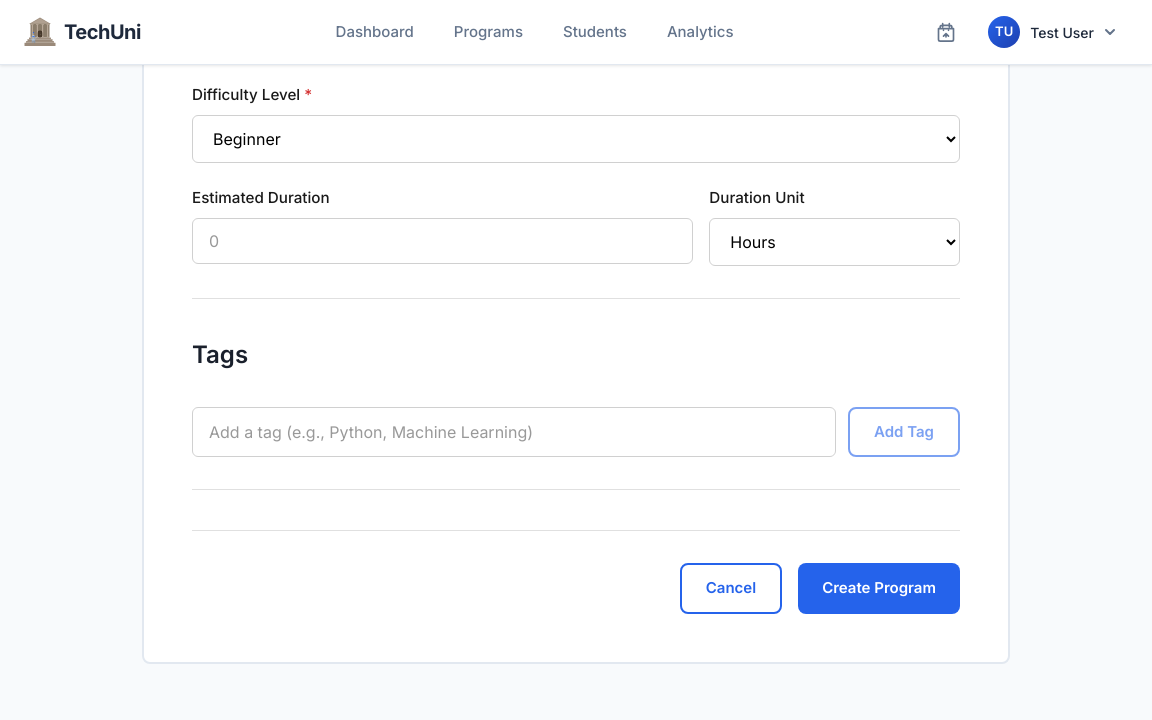
Scenario: Course Creation Flow Integration Tests › should validate required fields before submission
(page scrolled)
# Submit without filling required fields
Click the button "Create Program" at [879, 588], box [798, 563, 960, 614]
(page scrolled)
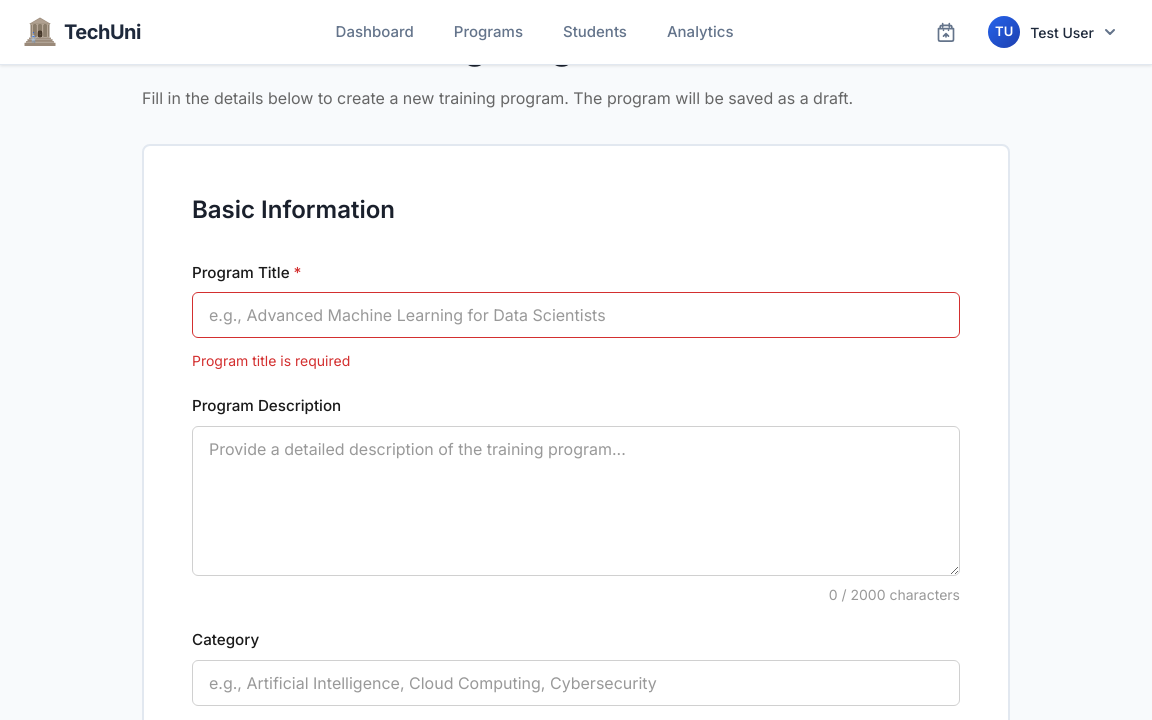
Check: the message "Program title is required" is shown, box [192, 352, 350, 369]
